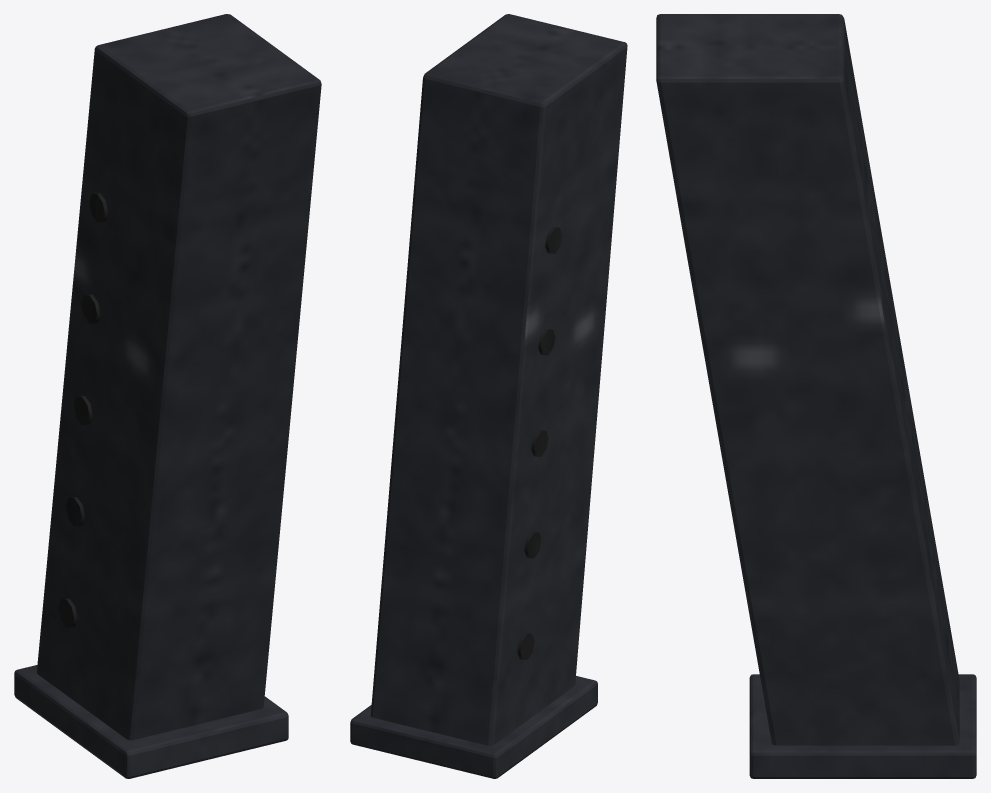
File: mag_tt33.glb
3 renders of one model, left to right at view 1: azimuth 30°, elevation 25°; view 2: azimuth 150°, elevation 25°; view 3: azimuth 270°, elevation 25°, orthographic. The views are drawn at different scales.
Parts seen in each view (by area): view 1: mag_tt33; view 2: mag_tt33; view 3: mag_tt33.
Boxes of the visible parts, <box> form: mag_tt33: <box>14,14,321,778</box>; mag_tt33: <box>350,14,627,778</box>; mag_tt33: <box>656,14,976,778</box>.
Size of the model in its own units: 0.024 by 0.098 by 0.0409.
2 materials, 2 textured.
